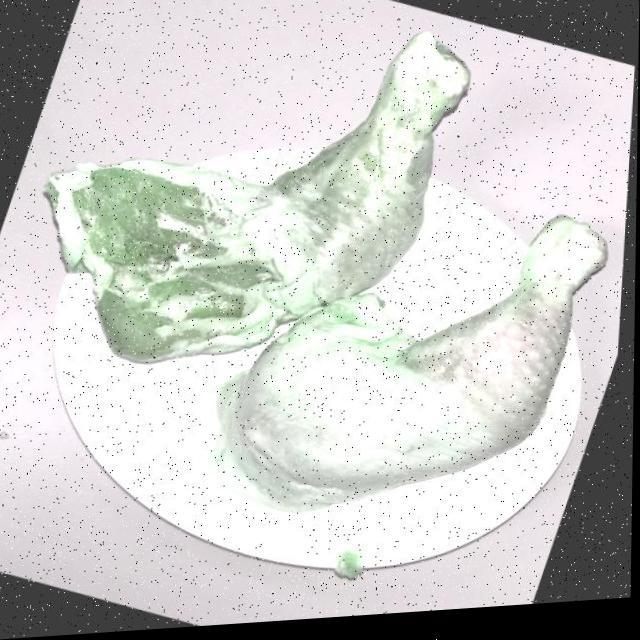quater: (45, 34, 448, 332), (257, 233, 609, 503)
